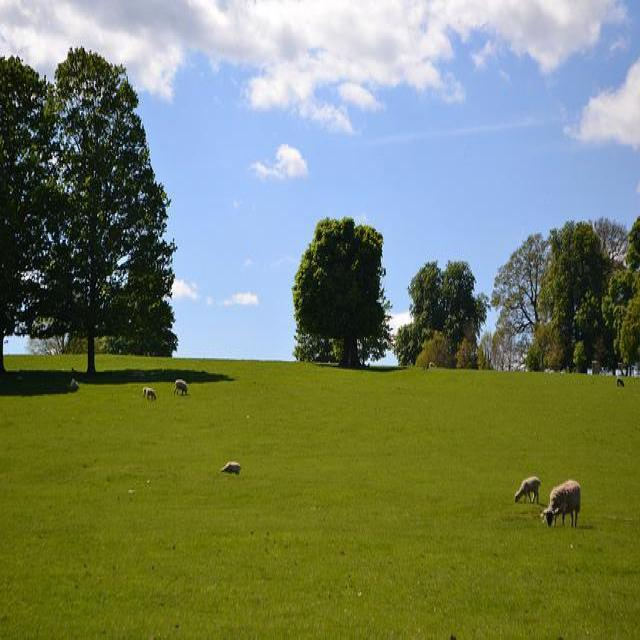Sheep: (542, 480, 581, 529)
